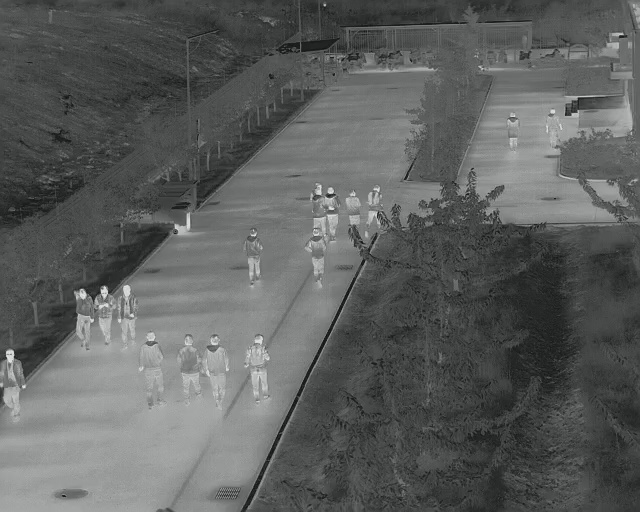person: (136, 330, 165, 407), (243, 333, 272, 403), (1, 347, 27, 425), (202, 334, 229, 409), (176, 334, 200, 405), (115, 284, 139, 350), (92, 285, 115, 346), (72, 287, 94, 349), (242, 227, 263, 287), (305, 228, 326, 288), (307, 185, 327, 237), (364, 184, 381, 236), (324, 184, 339, 242), (543, 107, 562, 148), (343, 188, 360, 229), (505, 110, 520, 152)
